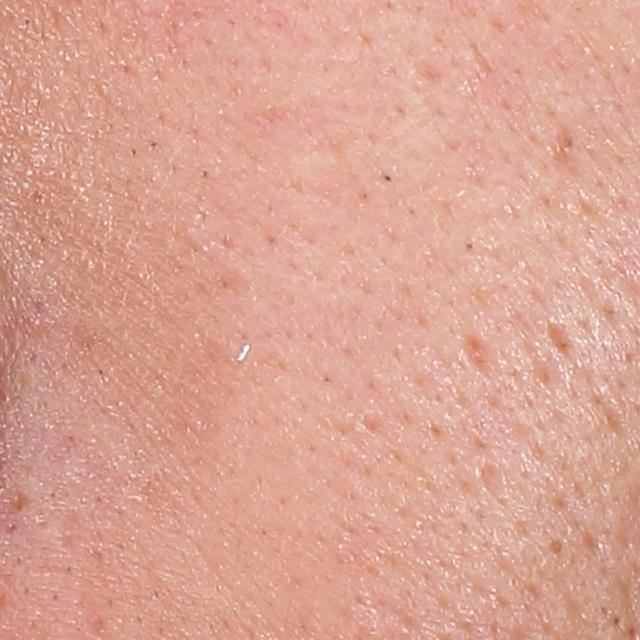atrophic_scar: (459, 334, 495, 384), (542, 319, 581, 360)
comedo: (544, 531, 574, 560), (380, 169, 401, 188)
